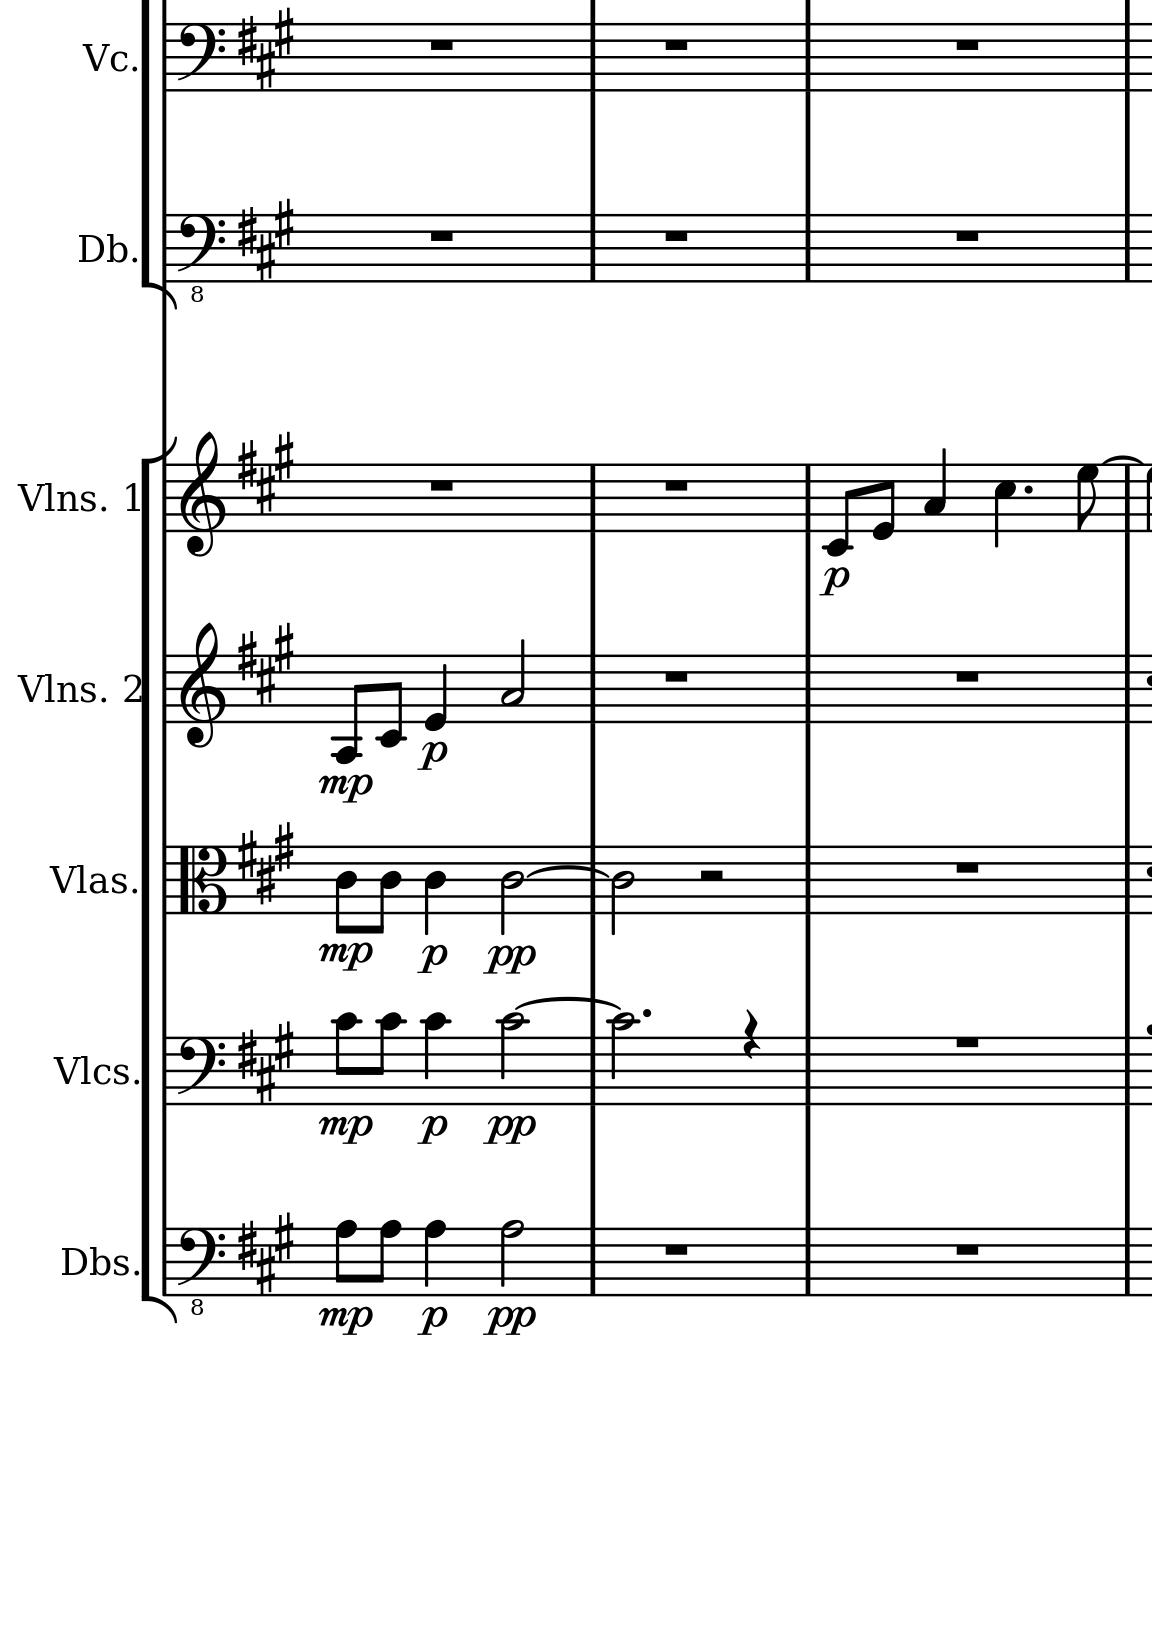2_10: (496, 1012, 529, 1105), (607, 1012, 638, 1105)
2_3: (499, 638, 527, 727)
2_4: (497, 842, 529, 936), (608, 842, 637, 937)
2_8: (499, 1218, 527, 1299)
4_0: (421, 653, 449, 733)
4_10: (421, 1009, 451, 1107)
4_3: (923, 447, 948, 535)
4_4: (421, 845, 448, 938)
4_5: (992, 464, 1017, 550)
4_8: (421, 1218, 448, 1299)
8_-2: (824, 465, 857, 555), (377, 653, 405, 749)
8_-4: (330, 651, 368, 763)
8_0: (871, 462, 896, 541)
8_10: (372, 1011, 405, 1107), (330, 1011, 360, 1105)
8_4: (369, 844, 401, 935), (333, 842, 358, 935)
8_7: (1075, 464, 1100, 535)
8_8: (372, 1219, 401, 1299), (332, 1219, 358, 1299)
A_S: (233, 194, 299, 287), (234, 616, 297, 710), (234, 817, 299, 908), (233, 427, 297, 518), (234, 4, 298, 93), (234, 1208, 297, 1299), (234, 1018, 297, 1107)
Brace: (138, 435, 181, 1323)
Cclef: (177, 845, 228, 916)
Dbs: (59, 1240, 131, 1281), (75, 231, 128, 267)
Fclef: (176, 1036, 227, 1109), (176, 22, 227, 95)
Gclef: (178, 621, 226, 751), (178, 430, 226, 560)
Lower_Fclef: (177, 211, 227, 305), (177, 1224, 227, 1318)
Rests1: (425, 226, 458, 245), (660, 226, 692, 245), (951, 226, 982, 245), (660, 667, 691, 687), (425, 476, 458, 495), (660, 36, 691, 55), (951, 36, 982, 55), (951, 1240, 982, 1259), (425, 36, 458, 54), (953, 1033, 982, 1052), (660, 1241, 692, 1257), (953, 668, 982, 685), (953, 859, 982, 876), (660, 477, 691, 493)
Rests2: (693, 866, 728, 887)
Rests4: (741, 1008, 761, 1062)
Single_barline: (795, 845, 820, 913), (797, 464, 820, 533), (583, 845, 607, 915), (1116, 845, 1140, 915), (582, 1036, 606, 1105), (795, 1037, 819, 1107), (1116, 1037, 1140, 1105), (581, 1229, 603, 1297), (1117, 24, 1140, 91), (1117, 214, 1140, 282), (1117, 655, 1140, 723), (797, 1229, 819, 1296), (1117, 1229, 1140, 1296), (797, 24, 819, 90), (797, 655, 819, 722), (582, 464, 603, 532), (582, 22, 603, 90), (1118, 466, 1140, 533), (582, 655, 603, 723), (582, 216, 603, 282), (797, 216, 818, 282), (158, 464, 177, 533), (156, 846, 175, 915), (157, 1227, 175, 1296), (157, 655, 175, 723), (157, 1038, 175, 1105), (158, 22, 175, 91), (158, 216, 175, 284)
Slur: (515, 996, 623, 1012), (527, 864, 613, 879), (1102, 454, 1146, 467)
Vc: (84, 36, 128, 75)
Vla: (49, 859, 108, 903)
Vlc: (52, 1049, 112, 1094)
Vln: (16, 475, 77, 521), (17, 667, 79, 712)
dot: (638, 1006, 655, 1023), (1019, 482, 1035, 497)
mp: (317, 770, 377, 806), (317, 1304, 374, 1340), (315, 938, 374, 973), (317, 1113, 374, 1148)
p: (819, 563, 852, 598), (416, 1113, 448, 1146), (416, 1305, 448, 1337), (416, 740, 448, 771), (416, 943, 448, 975)
pp: (481, 942, 539, 977), (482, 1113, 535, 1148), (484, 1304, 535, 1338)
